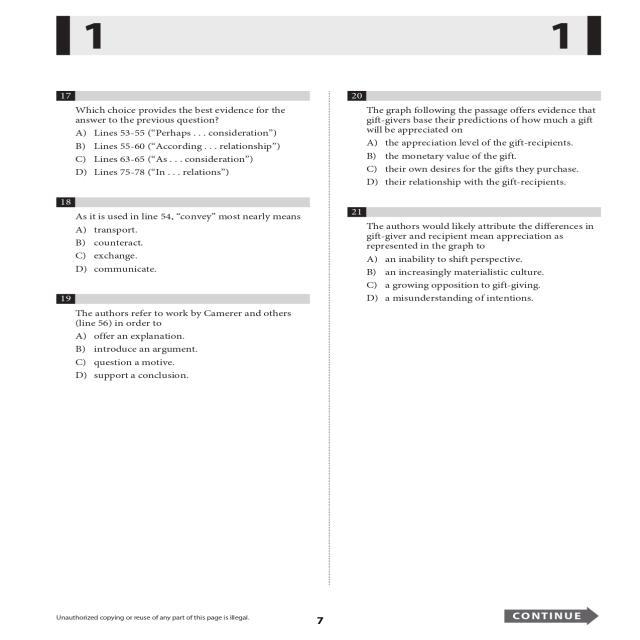Answer_Block: (52, 331, 324, 389), (55, 126, 324, 184), (52, 224, 324, 278), (344, 253, 606, 305), (346, 137, 606, 189)
Question_Answer_Block: (344, 105, 604, 196), (56, 98, 322, 185), (344, 218, 604, 306), (54, 308, 324, 388), (52, 210, 324, 288)
Question_Block: (344, 218, 604, 255), (346, 106, 606, 136), (56, 98, 322, 126), (52, 308, 322, 332), (58, 210, 324, 226)
Question_Paper_Area: (52, 88, 324, 420), (344, 88, 606, 326)
